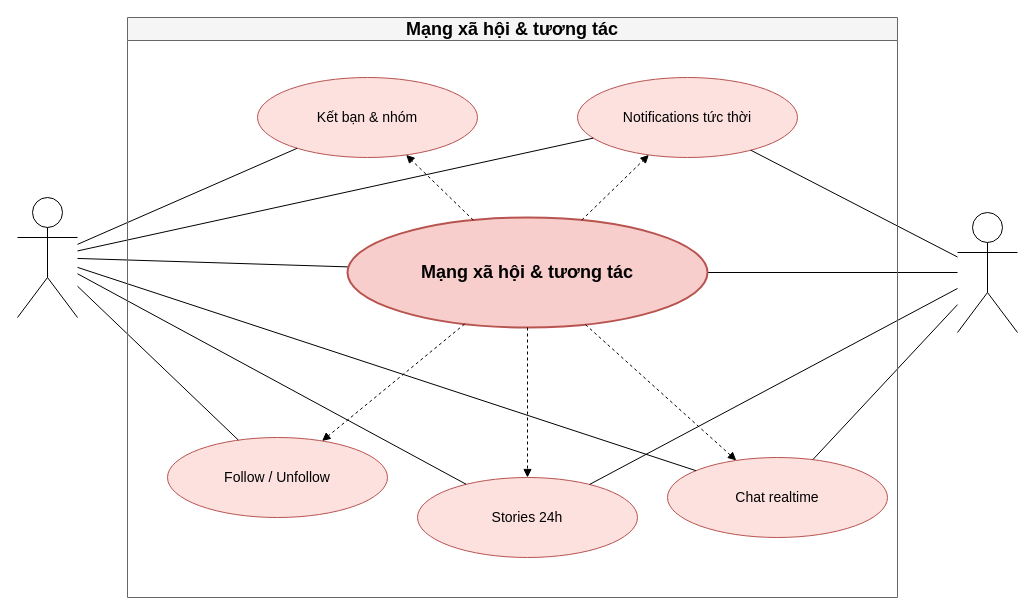
This 1035x615 diagram has some shape labels left out. Here are the shapes that lost their labels. From the top down, the centre of each, then its label:
the point at 47,257: User
the point at 987,272: System
